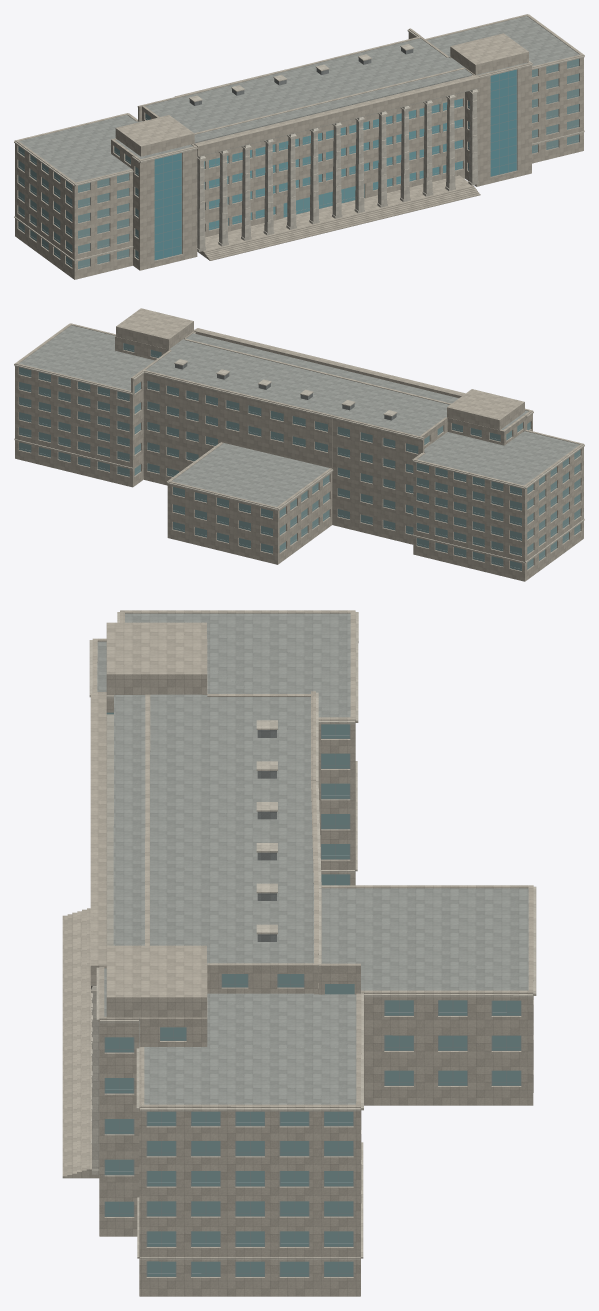
3 renders of one model, top to bottom at view 1: azimuth 30°, elevation 25°; view 2: azimuth 150°, elevation 25°; view 3: azimuth 270°, elevation 25°, orthographic. The views are drawn at different scales.
Parts seen in each view (by area): view 1: main__stone, main__roof, main__column, main__coreglass, main__sideglass, main__glass, main__frame, main__stair-main, main__threshold-main, main__trim, main__soffit; view 2: main__stone, main__roof, main__sideglass, main__frame, main__trim; view 3: main__roof, main__stone, main__sideglass, main__trim, main__stair-main, main__frame, main__soffit, main__column, main__base.
Boxes of the visible parts, x1,y1,x2,y2 form: main__stone: [15, 14, 583, 279]; main__roof: [19, 16, 579, 182]; main__column: [197, 89, 478, 251]; main__coreglass: [154, 69, 516, 259]; main__sideglass: [18, 59, 578, 268]; main__glass: [204, 98, 462, 229]; main__frame: [18, 59, 579, 268]; main__stair-main: [203, 185, 480, 260]; main__threshold-main: [197, 175, 471, 255]; main__trim: [14, 14, 584, 261]; main__soffit: [198, 88, 478, 156]; main__stone: [15, 308, 583, 581]; main__roof: [19, 325, 579, 506]; main__sideglass: [19, 343, 580, 570]; main__frame: [19, 343, 580, 570]; main__trim: [14, 323, 584, 563]; main__roof: [97, 613, 528, 1104]; main__stone: [90, 610, 533, 1296]; main__sideglass: [105, 712, 520, 1276]; main__trim: [89, 612, 536, 1259]; main__stair-main: [62, 908, 91, 1178]; main__frame: [104, 724, 521, 1276]; main__soffit: [91, 714, 113, 985]; main__column: [91, 986, 99, 1174]; main__base: [257, 730, 276, 941].
Bounding box in the file's own units: 110 × 24.53 × 44.15.
10 materials, 6 textured.
